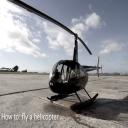helicopter: (8, 1, 106, 113)
